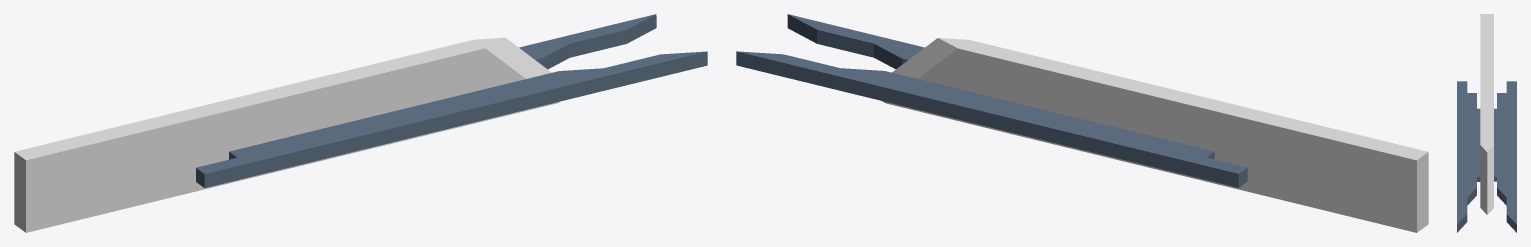
3 views of the same model, side by side, from view 1: azimuth 30°, elevation 25°; view 2: azimuth 150°, elevation 25°; view 3: azimuth 270°, elevation 25° (orthographic). The views are drawn at different scales.
Parts seen in each view (by area): view 1: 立方体.025, 立方体.026, 立方体.030, 立方体.031, 立方体.032; view 2: 立方体.025, 立方体.031, 立方体.032, 立方体.026, 立方体.030; view 3: 立方体.025, 立方体.031, 立方体.026, 立方体.030, 立方体.032, 立方体.033.
Part boxes in pixels (left/top/right/bottom): 立方体.025: left=14, top=37, right=559, bottom=232; 立方体.026: left=196, top=51, right=707, bottom=188; 立方体.030: left=229, top=68, right=603, bottom=159; 立方体.031: left=519, top=14, right=656, bottom=57; 立方体.032: left=527, top=43, right=569, bottom=69; 立方体.025: left=882, top=38, right=1428, bottom=232; 立方体.031: left=736, top=51, right=1247, bottom=187; 立方体.032: left=838, top=68, right=1214, bottom=159; 立方体.026: left=787, top=14, right=924, bottom=57; 立方体.030: left=874, top=43, right=915, bottom=69; 立方体.025: left=1480, top=14, right=1493, bottom=214; 立方体.031: left=1506, top=81, right=1516, bottom=232; 立方体.026: left=1457, top=81, right=1467, bottom=232; 立方体.030: left=1466, top=93, right=1476, bottom=205; 立方体.032: left=1497, top=93, right=1506, bottom=205; 立方体.033: left=1477, top=108, right=1496, bottom=181.
Bounding box in the file's own units: 4.17 × 0.4378 × 0.5587.
